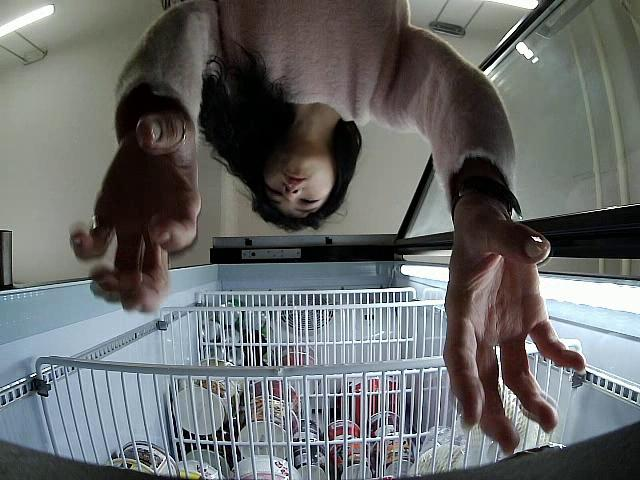00_hand: (441, 194, 586, 455), (69, 103, 201, 317)
